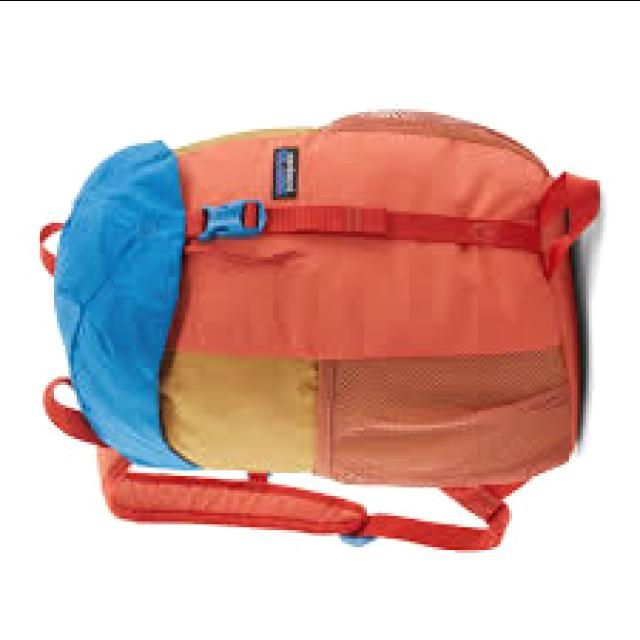backpack: (38, 109, 601, 553)
